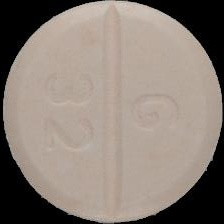63187-461: (0, 0, 224, 224)
